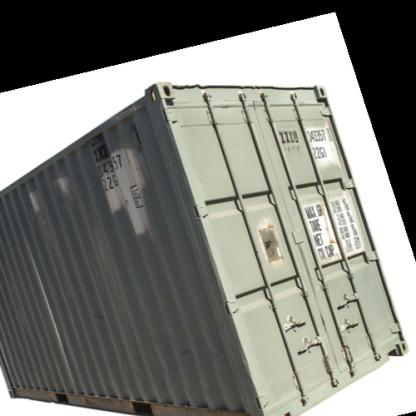Damage: (78, 390, 170, 406)
